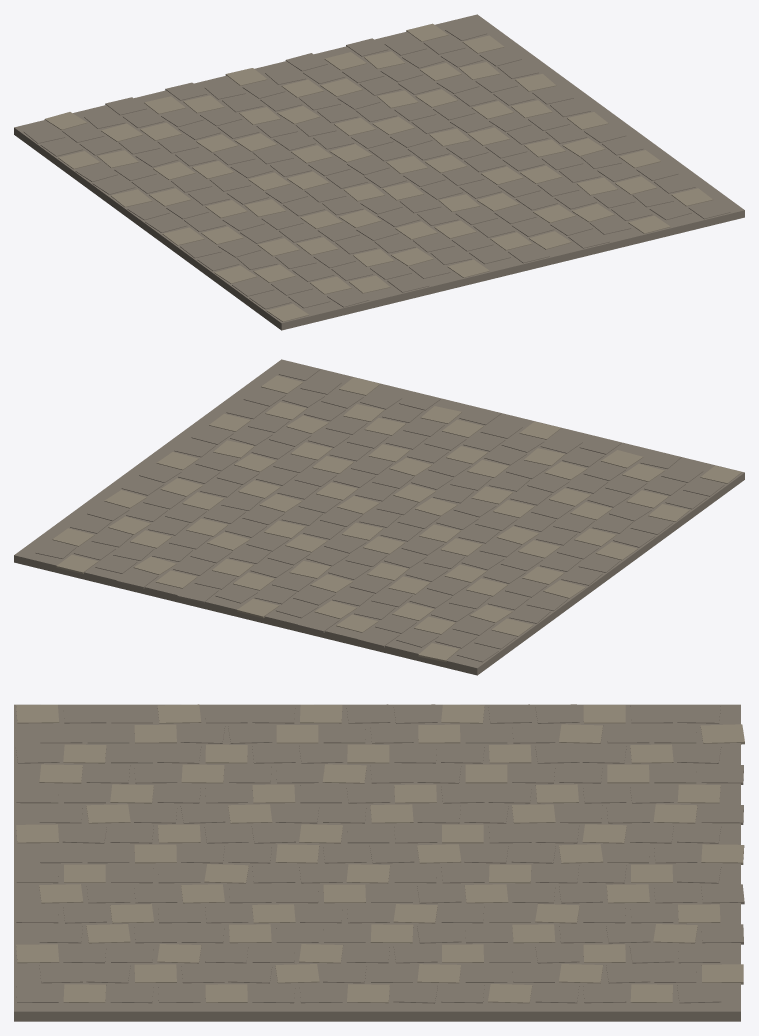
Rendered from barrio-abajo-suelo-empedrado.glb.
3 renders of one model, top to bottom at view 1: azimuth 30°, elevation 25°; view 2: azimuth 150°, elevation 25°; view 3: azimuth 270°, elevation 25°, orthographic. The views are drawn at different scales.
Parts seen in each view (by area): view 1: suelo_empedrado_Adoquin, suelo_empedrado_Piedra; view 2: suelo_empedrado_Adoquin, suelo_empedrado_Piedra; view 3: suelo_empedrado_Adoquin, suelo_empedrado_Piedra.
Part boxes in pixels (x1,y1,x2,y2): suelo_empedrado_Adoquin: [14, 14, 744, 330]; suelo_empedrado_Piedra: [44, 23, 712, 321]; suelo_empedrado_Adoquin: [14, 359, 744, 675]; suelo_empedrado_Piedra: [52, 375, 741, 662]; suelo_empedrado_Adoquin: [14, 704, 744, 1021]; suelo_empedrado_Piedra: [16, 704, 744, 1003].
Bounding box in the file's own units: 8 × 0.13 × 8.04.
